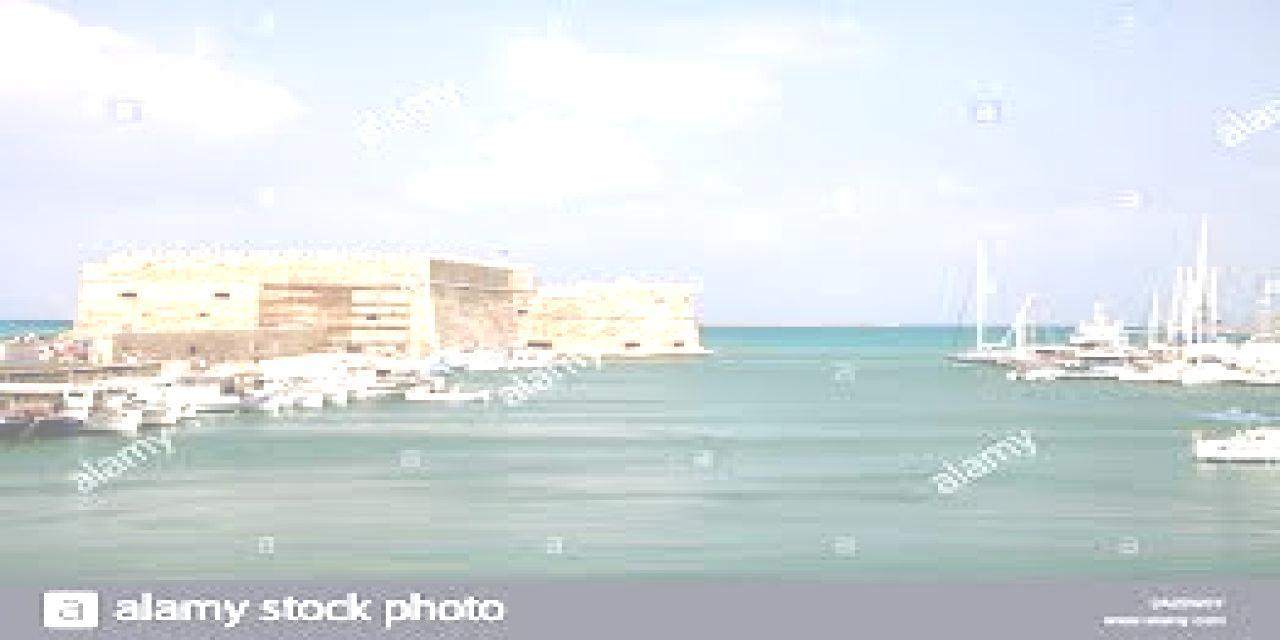Kules: (72, 245, 718, 360)
